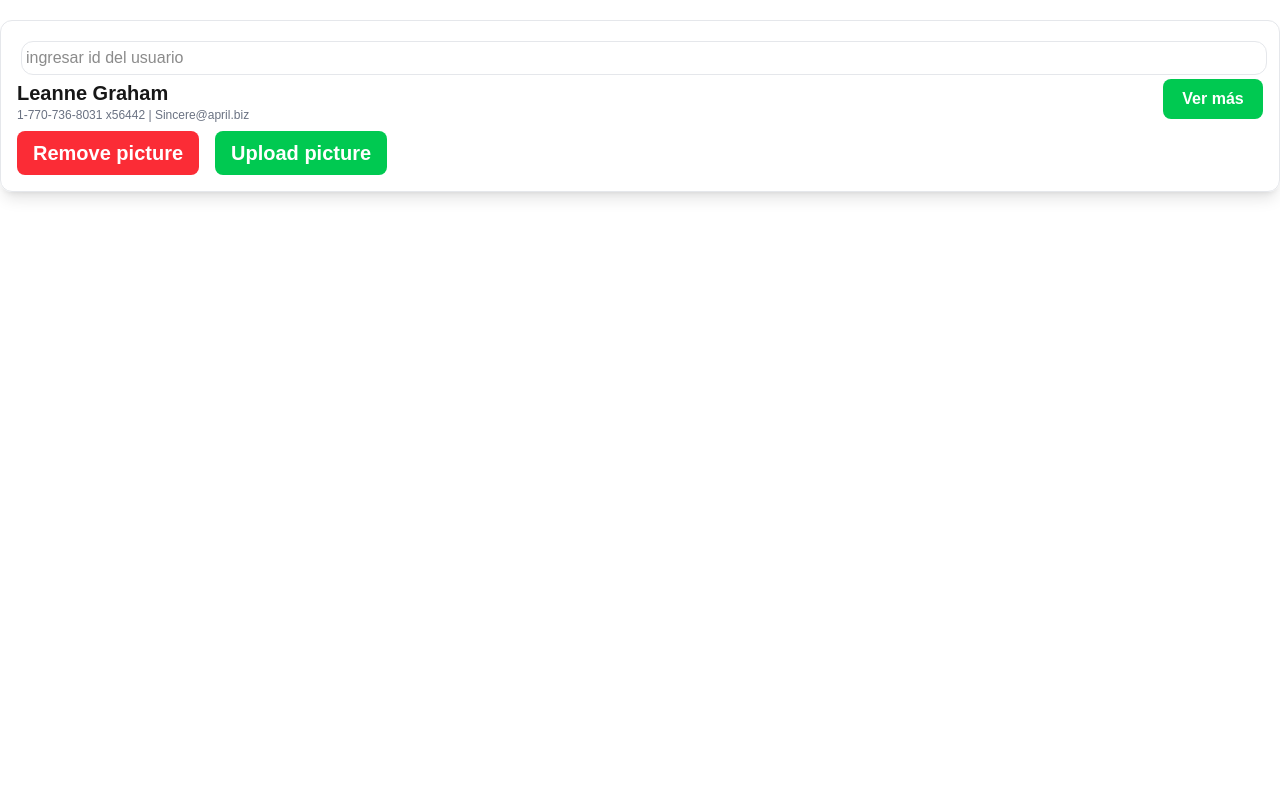
Test: Componente User › debe mostrar el mensaje cuando no hay foto
Step 1. Click the button "Ver más" → [1213, 99], box [1163, 79, 1263, 119]
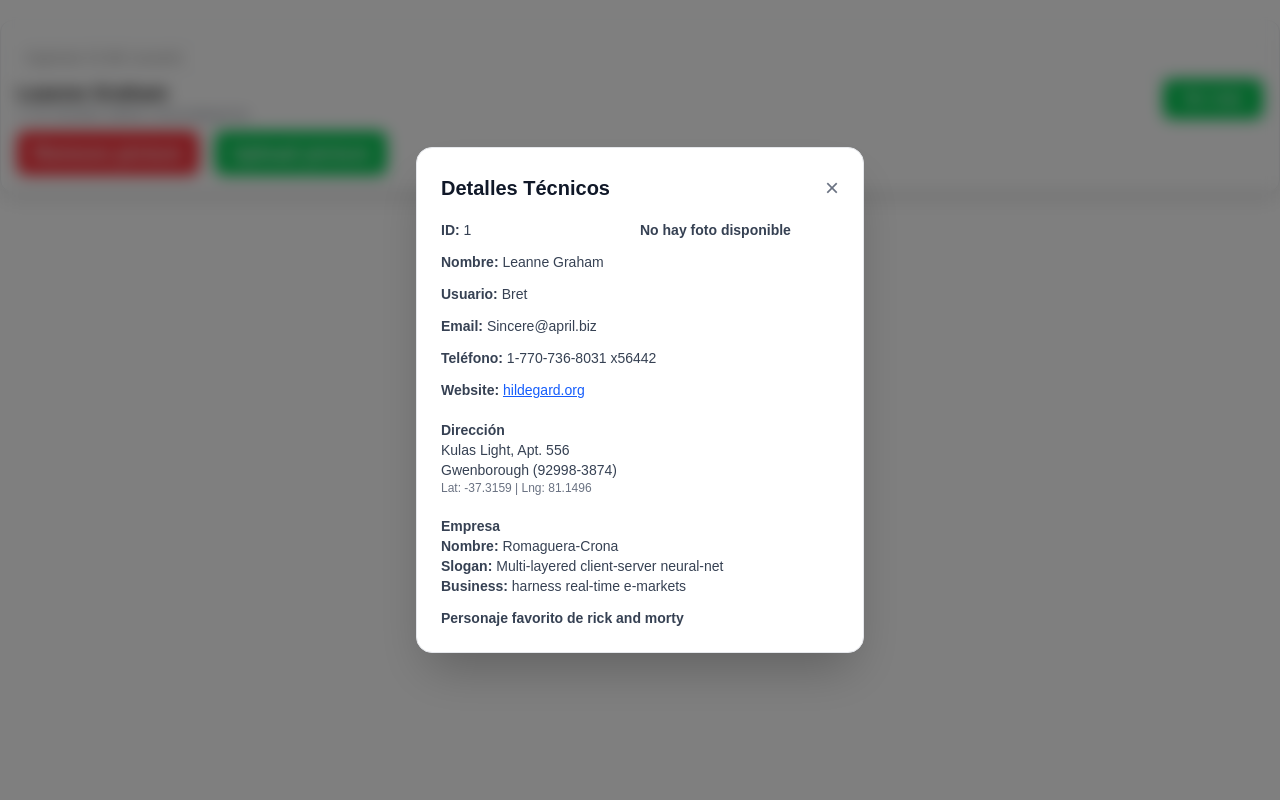
Now the text "No hay foto disponible" is shown, box [640, 222, 791, 238]
